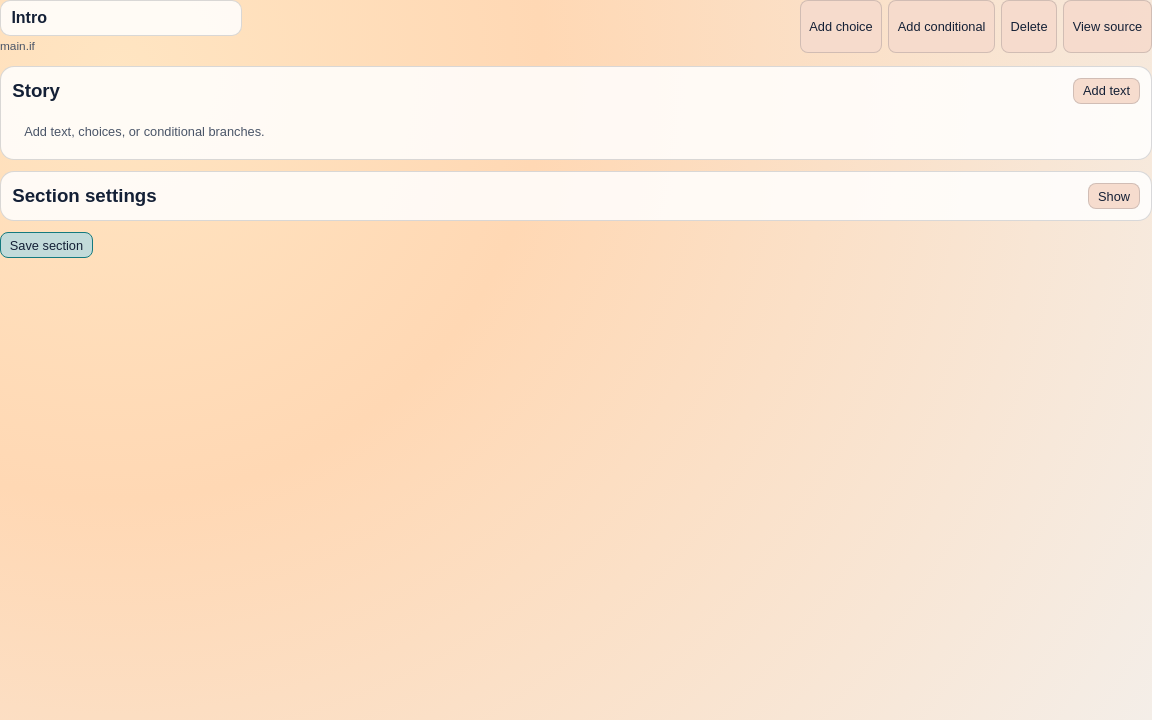
GraphSectionWriterPane › block management › "Add choice" button appends choice block
Click the button "Add choice".
click(841, 26)  # box 800,0 -> 882,53
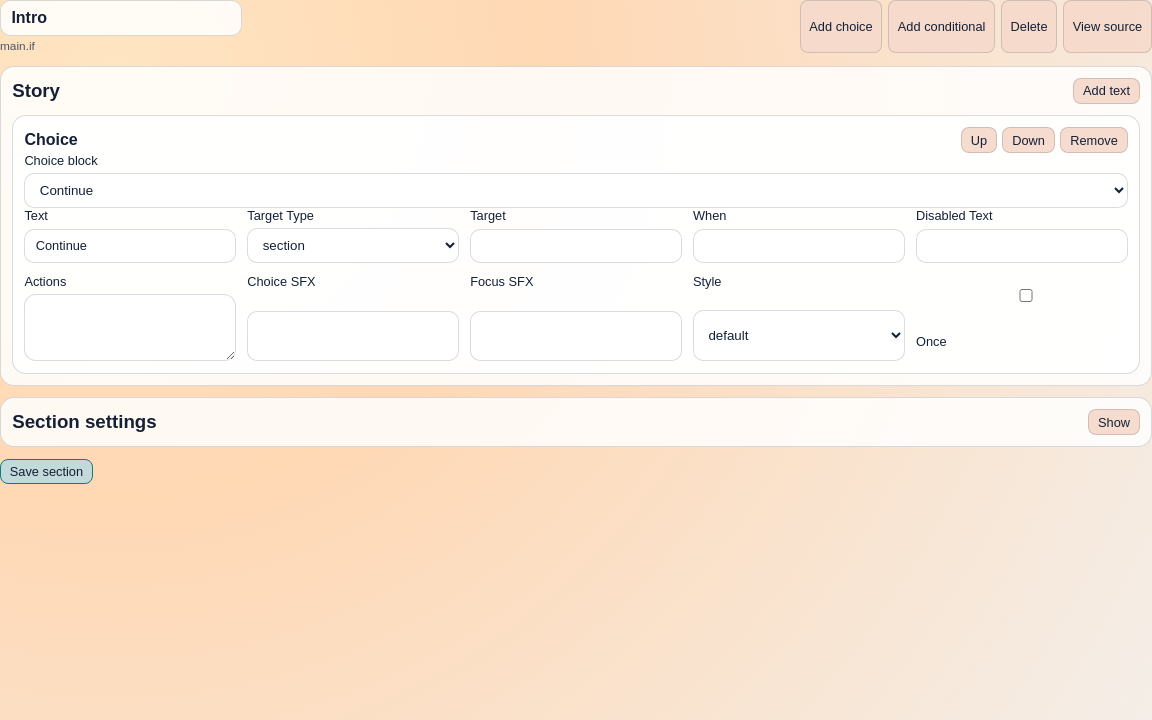
Check: the text "Choice block" is shown, box 24,153 -> 1128,208
